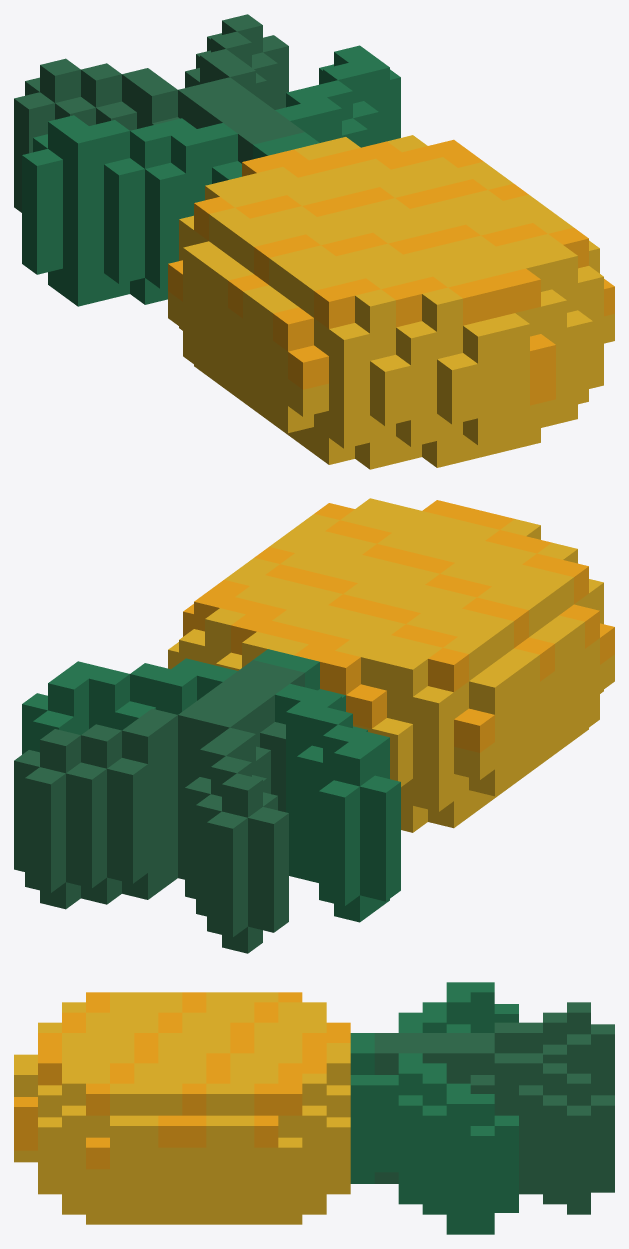
The model's file is Pineapple.obj.
3 views of the same model, one above another, from view 1: azimuth 30°, elevation 25°; view 2: azimuth 150°, elevation 25°; view 3: azimuth 270°, elevation 25° (orthographic). The views are drawn at different scales.
Parts seen in each view (by area): view 1: Untitled.002; view 2: Untitled.002; view 3: Untitled.002.
Part boxes in pixels (x1=…): Untitled.002: x1=14, y1=14, x2=614, y2=469; Untitled.002: x1=14, y1=498, x2=614, y2=953; Untitled.002: x1=14, y1=982, x2=614, y2=1234.
Size of the model in its own units: 1.82 by 0.78 by 3.25.
1 material, 1 textured.
